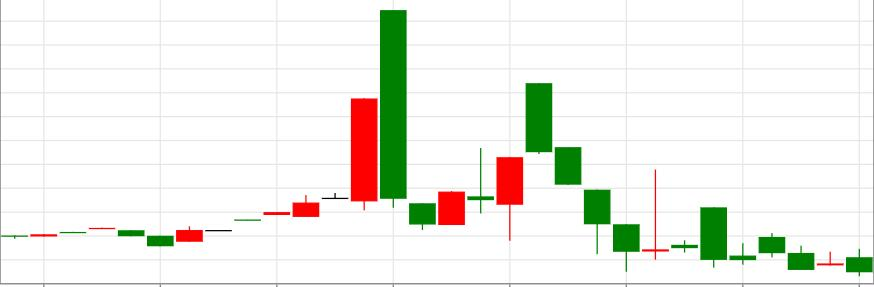three_black_crows_fall: (409, 84, 611, 255)
